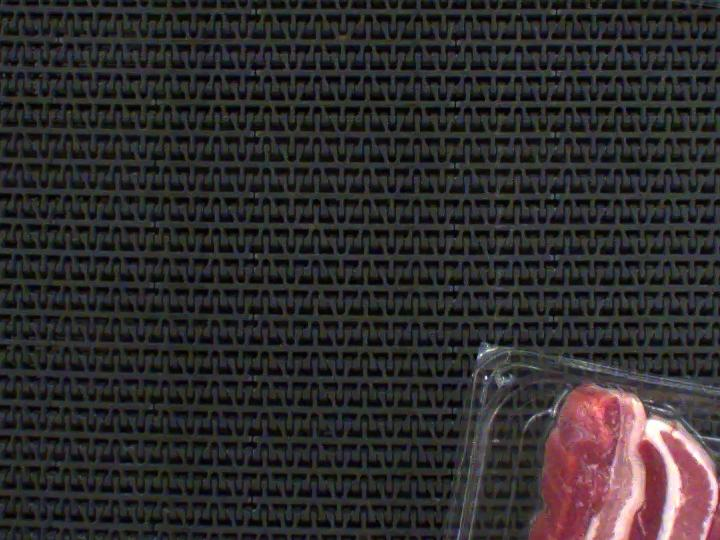unsealed: (580, 382, 720, 504)
